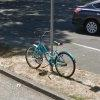Bicycle: (21, 23, 78, 87)
